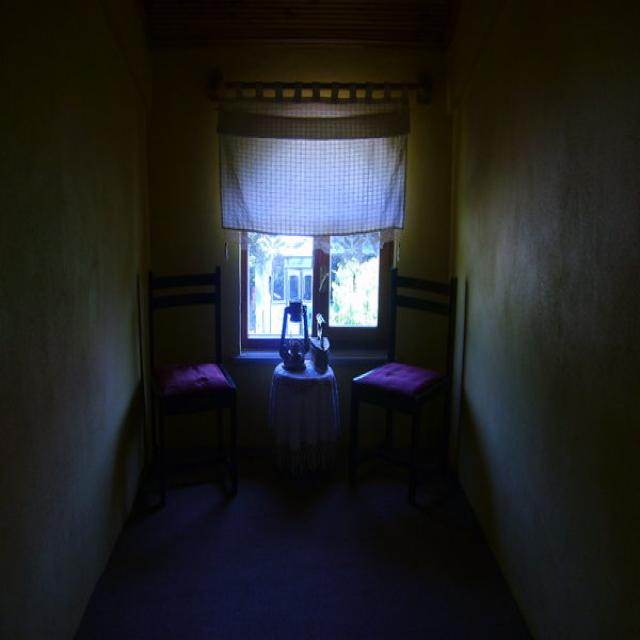Table: (264, 347, 343, 483)
chair: (344, 263, 488, 509), (132, 252, 243, 534)
